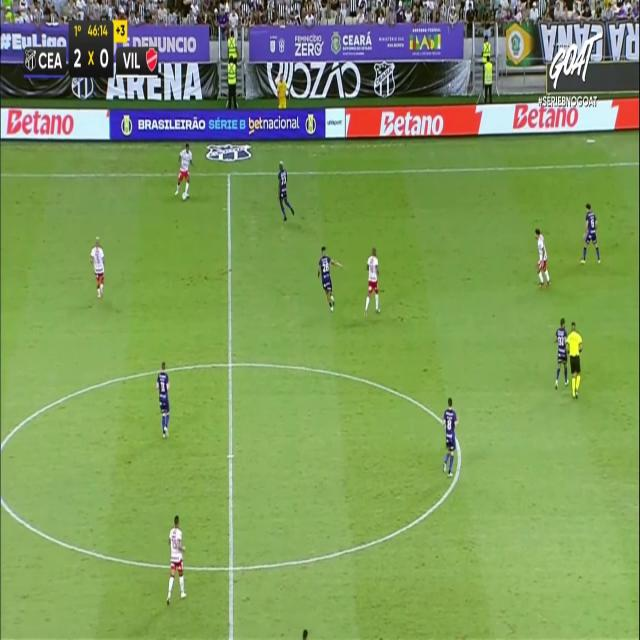ball: (181, 187, 189, 205)
player: (166, 514, 186, 604), (317, 245, 343, 312), (442, 397, 459, 478), (580, 202, 600, 264), (364, 246, 381, 316), (554, 317, 569, 389), (156, 361, 170, 438), (174, 142, 192, 200), (277, 160, 294, 221), (89, 235, 105, 298), (534, 228, 550, 288)
referee: (565, 321, 583, 397)
